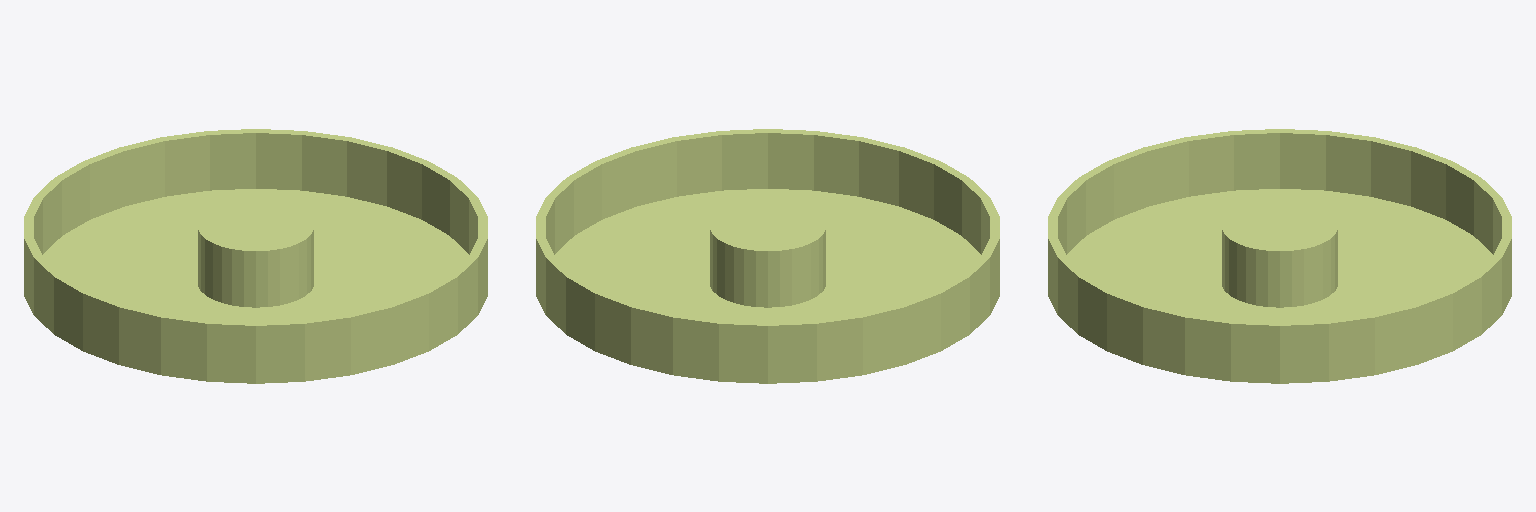
Rendered from fgfgfgfg.obj.
3 views of the same model, side by side, from view 1: azimuth 30°, elevation 25°; view 2: azimuth 150°, elevation 25°; view 3: azimuth 270°, elevation 25° (orthographic).
Parts seen in each view (by area): view 1: Cylinder001; view 2: Cylinder001; view 3: Cylinder001.
Part boxes in pixels (left/top/right/bottom): Cylinder001: left=24, top=129, right=487, bottom=383; Cylinder001: left=536, top=129, right=999, bottom=383; Cylinder001: left=1048, top=129, right=1511, bottom=383.
Size of the model in its own units: 114 by 15.87 by 114.